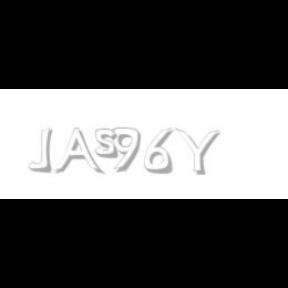6: (144, 128, 172, 176)
9: (112, 128, 140, 172)
A: (54, 128, 102, 176)
J: (28, 128, 53, 172)
Y: (174, 128, 220, 176)
s: (95, 128, 123, 160)
